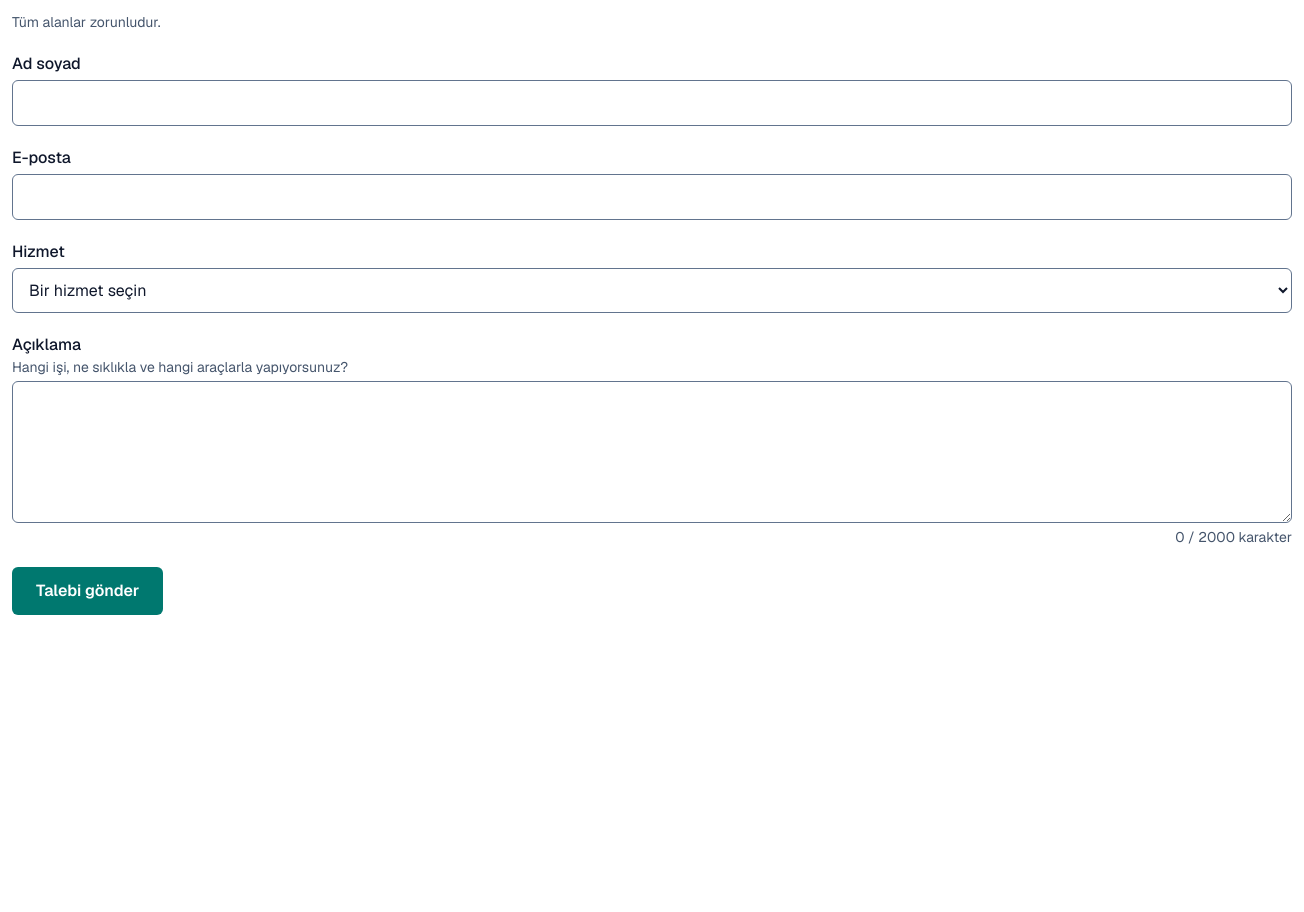
RequestForm › clears a field error as soon as the value becomes valid
Click the button "Talebi gönder": coordinates (88, 591) [12, 567, 163, 615]
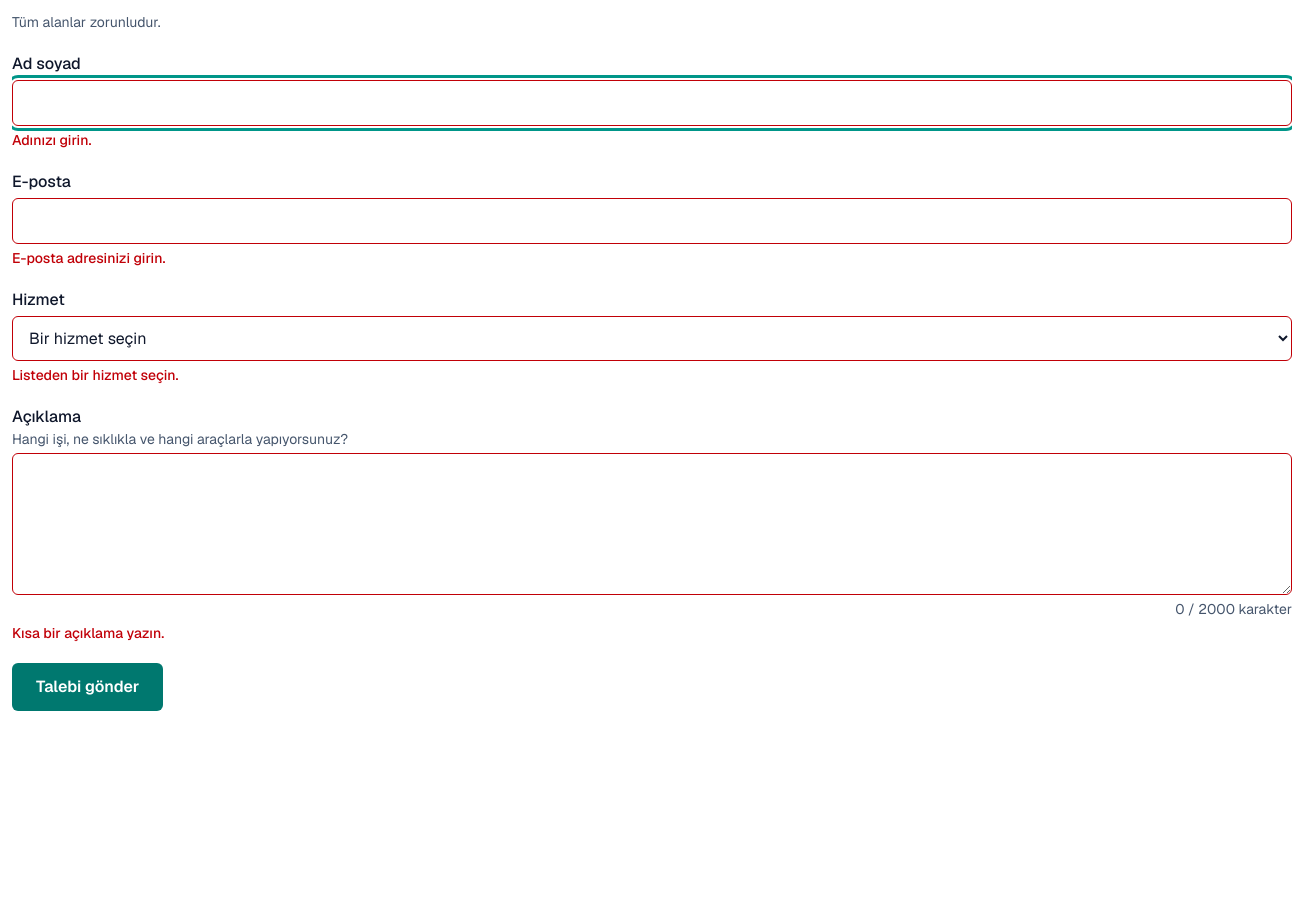
Result: the text "Adınızı girin." is shown at [12, 131, 92, 149]
In the field labelled "Ad soyad": coordinates (652, 103) [12, 80, 1292, 126], type "Ayşe"
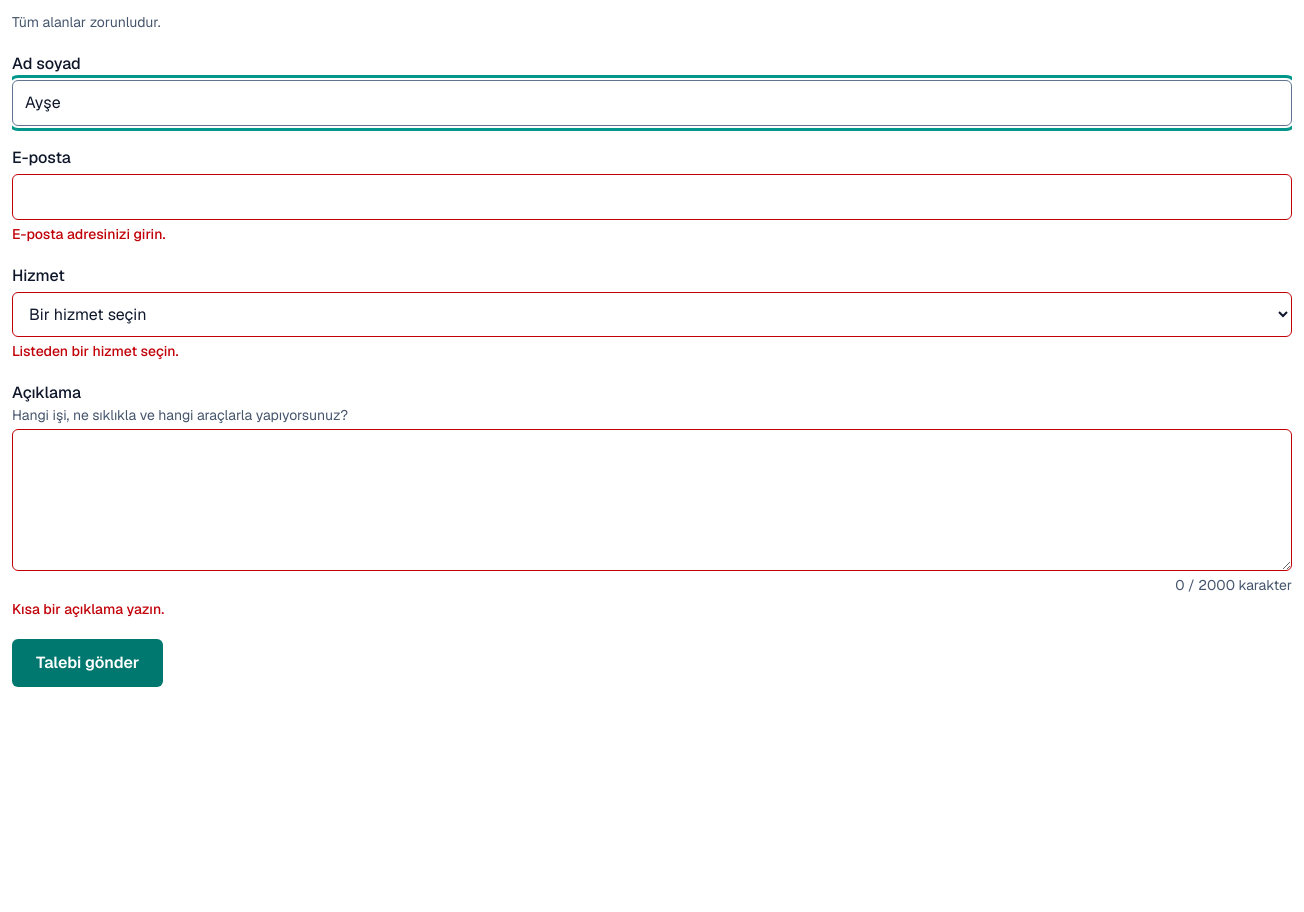
Result: the text "Adınızı girin." is gone
